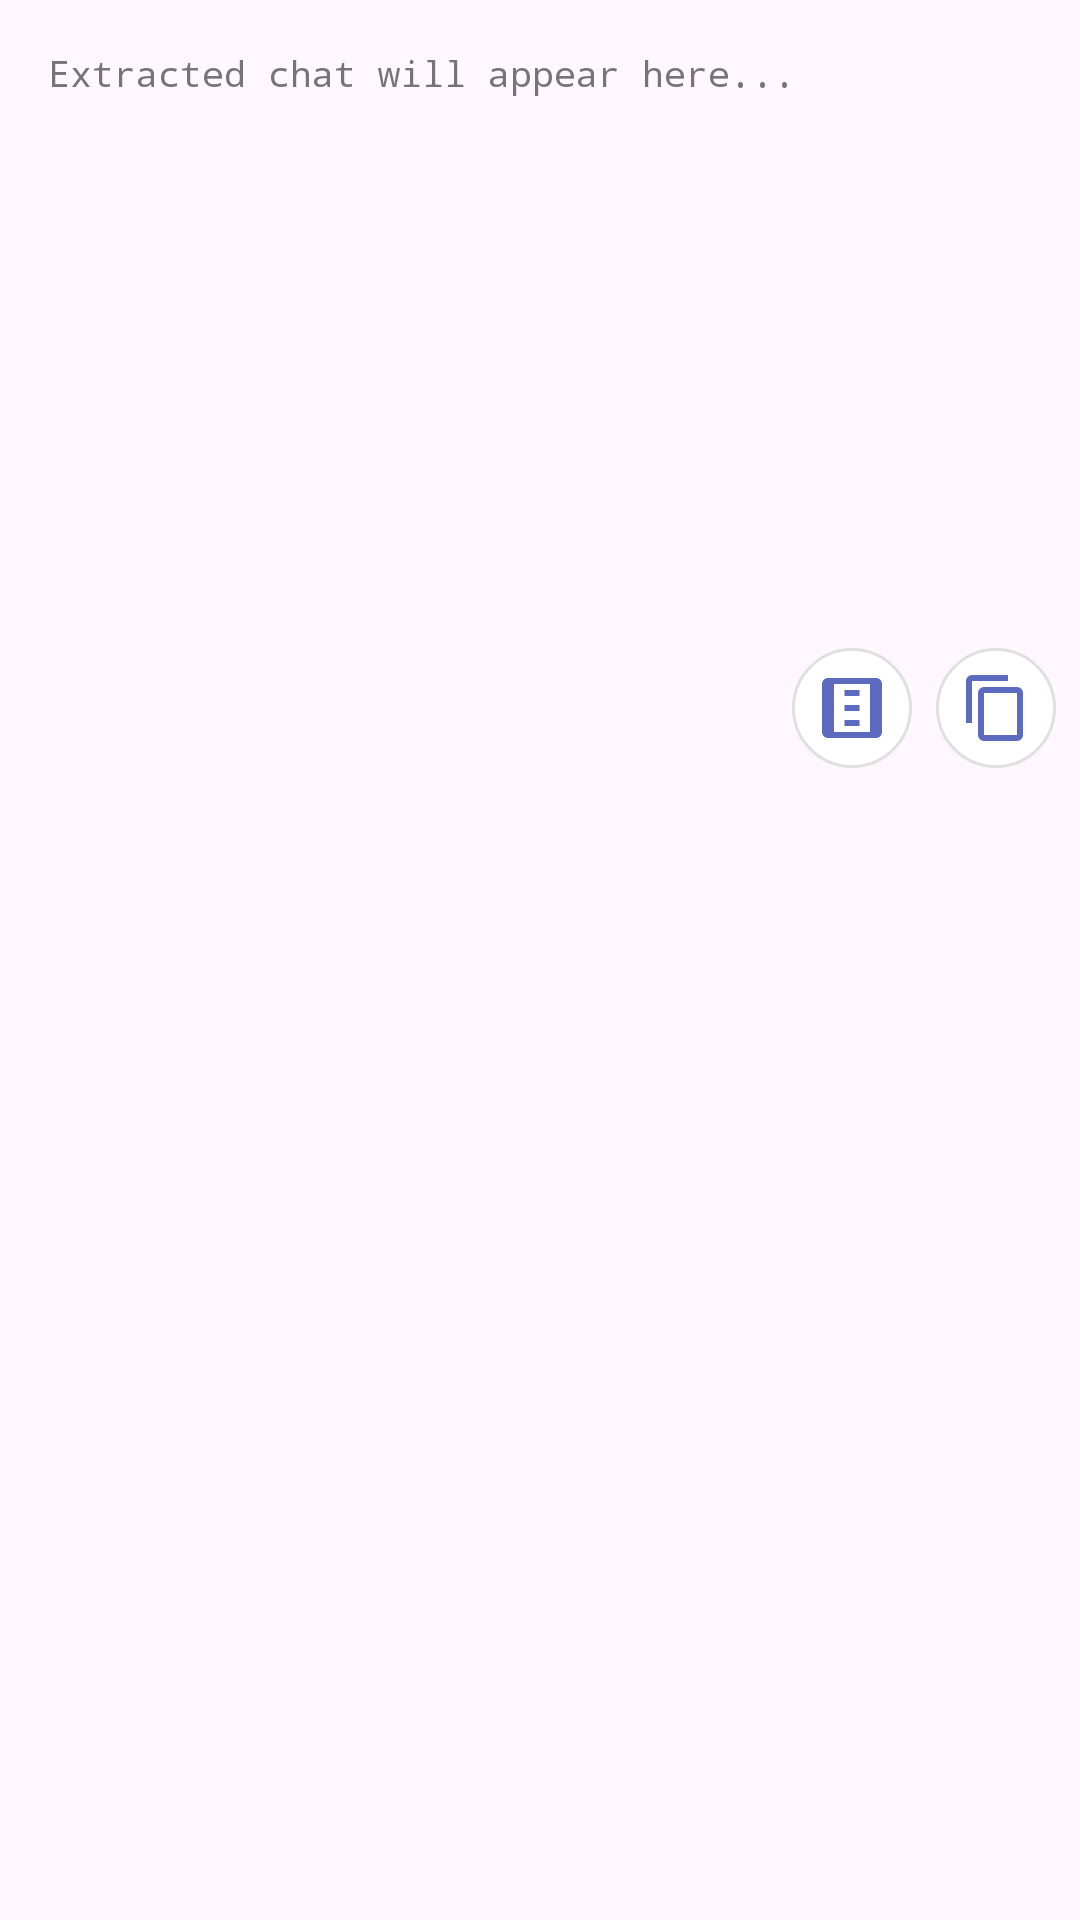

Icons on this 1080w x 1920h Android screen, each with the point to tap as [x,y]:
Copy Chat: [996,708]
Extract Chat: [852,708]
